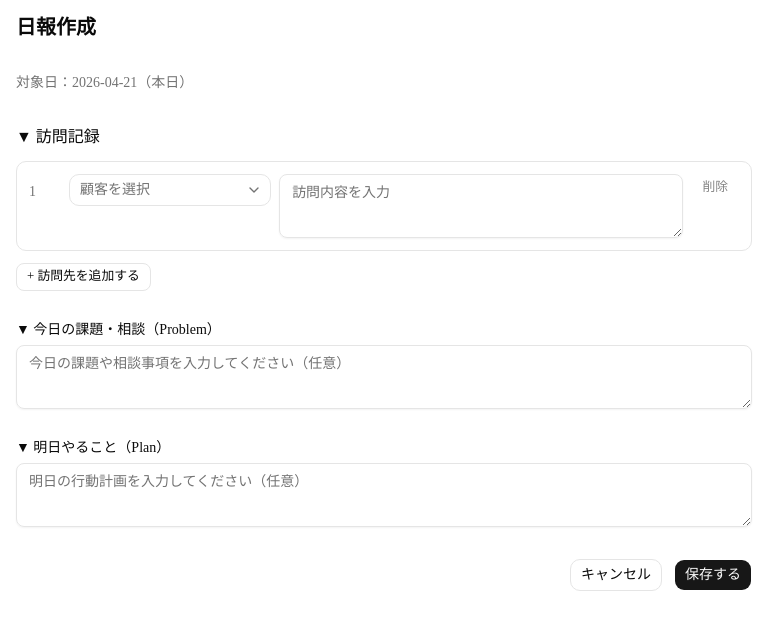
SCR-T-003-6: 顧客未選択でバリデーション › 顧客を選択せずに保存すると「顧客を選択してください」が表示される
Click the button "保存する" at (713, 575), box [674,559,752,591]
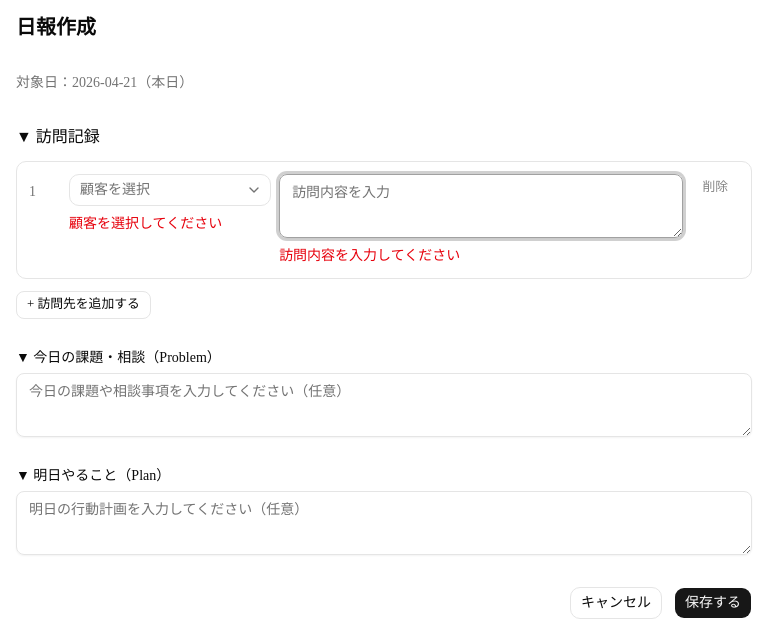
Expected: the text "顧客を選択してください" is shown, [69,216,222,231]
